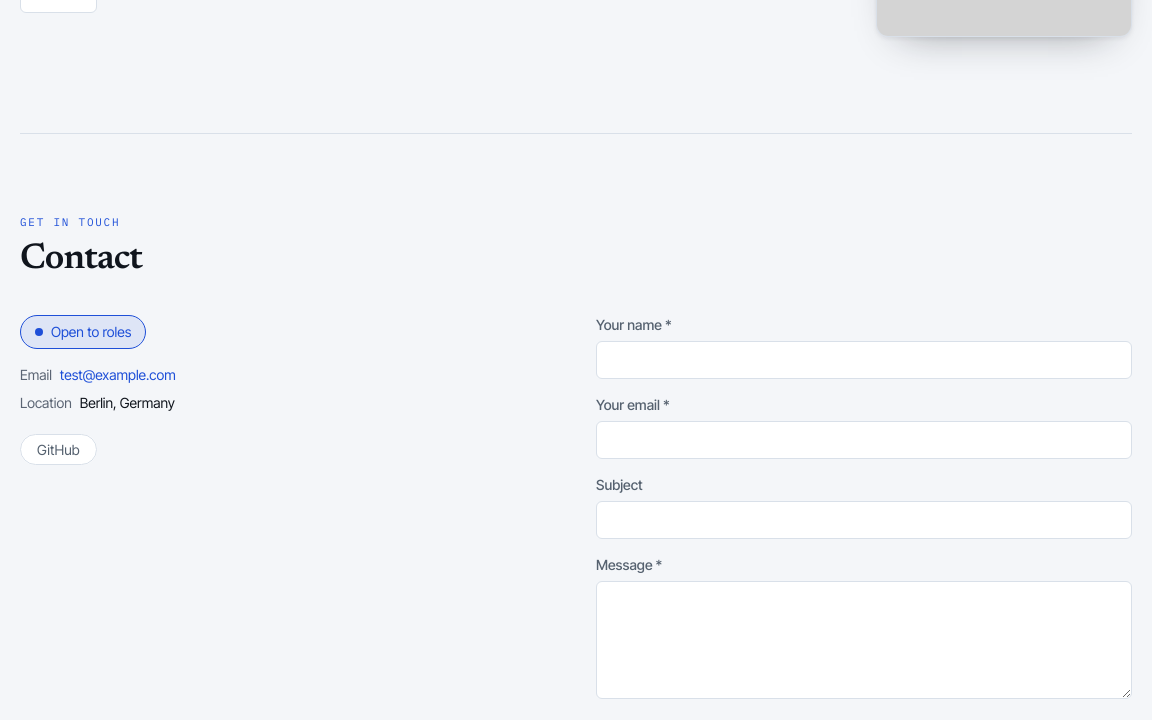
contact form › explains a rate-limit rather than showing a generic failure
(page scrolled)
In the field labelled "Your name *": (864, 360) [596,341,1132,379], type "Recruiter"
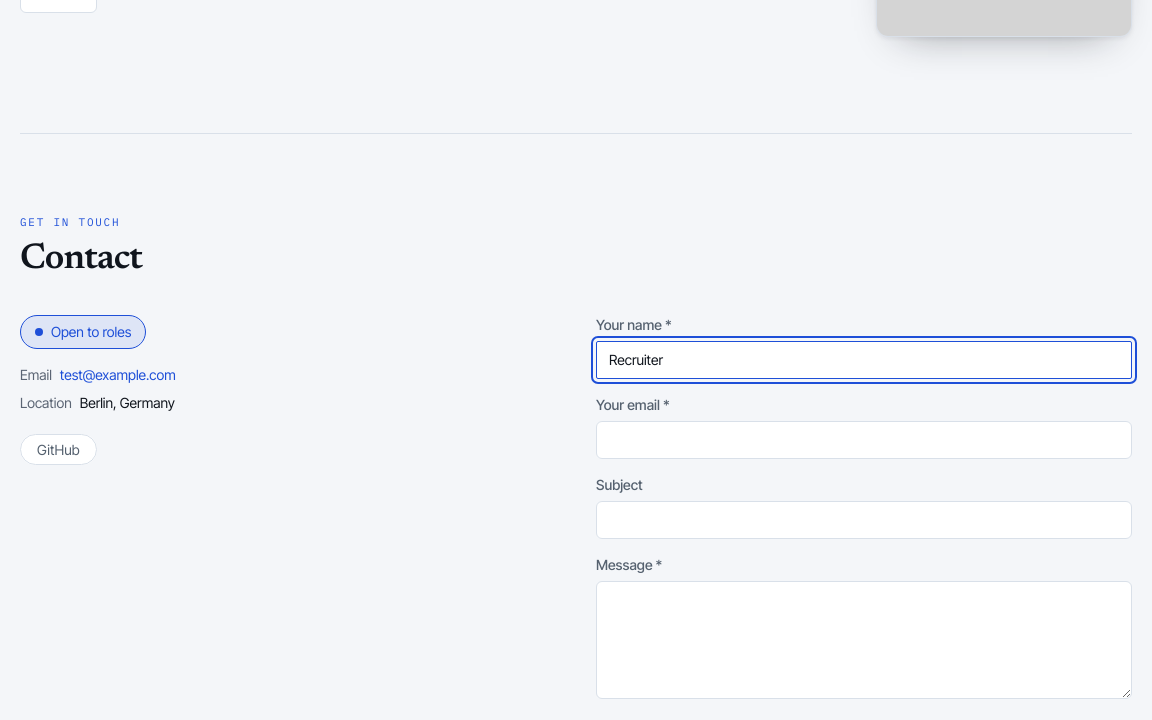
In the field labelled "Your email *": (864, 440) [596,421,1132,459], type "r@example.com"
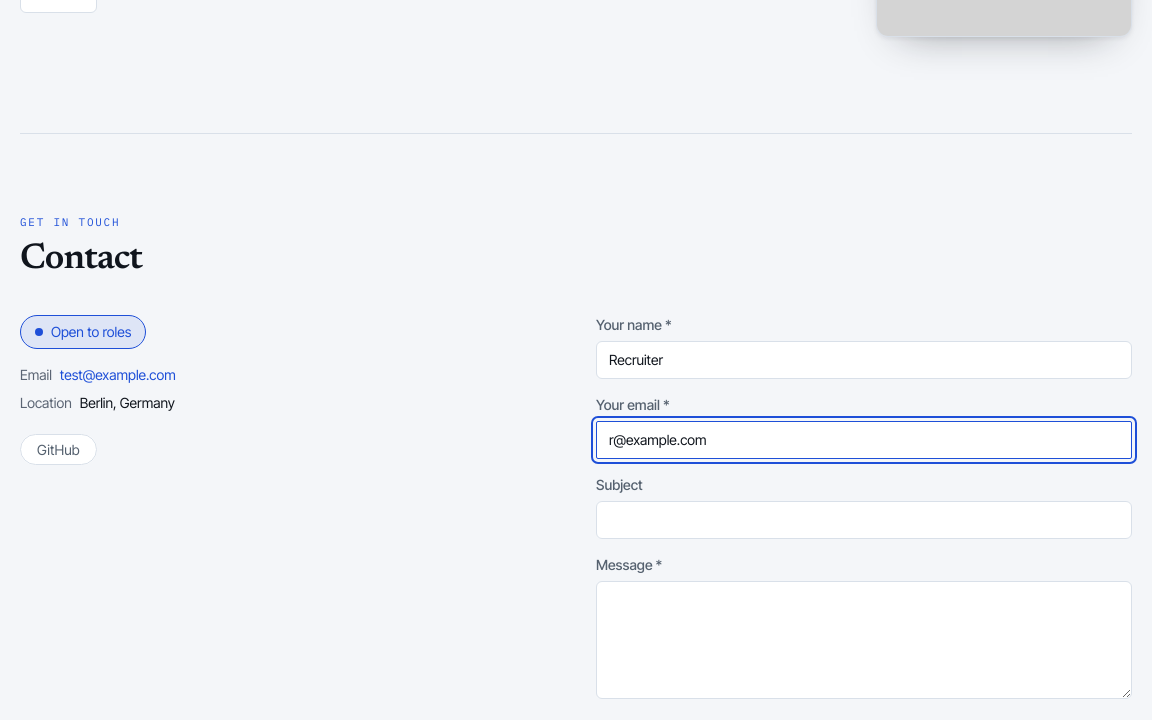
In the text box labelled "Message *": (864, 640) [596,581,1132,699], type "Another message entirely."
(page scrolled)
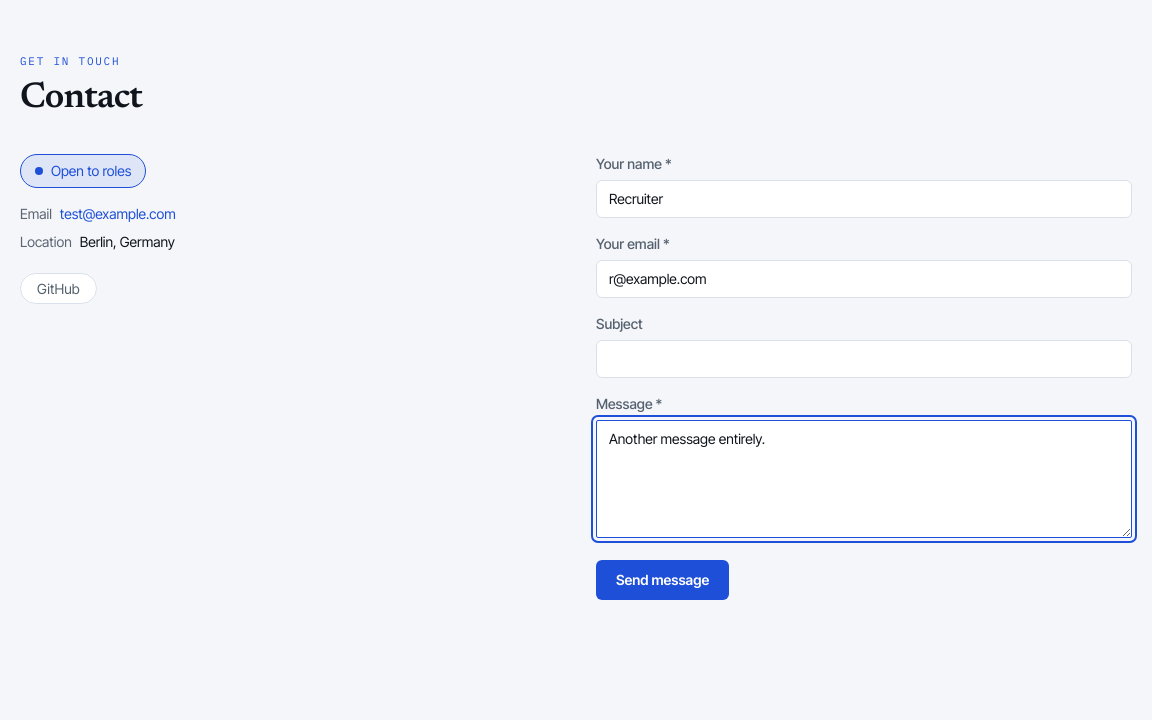
Click the button "Send message": (663, 580) [596,560,729,600]
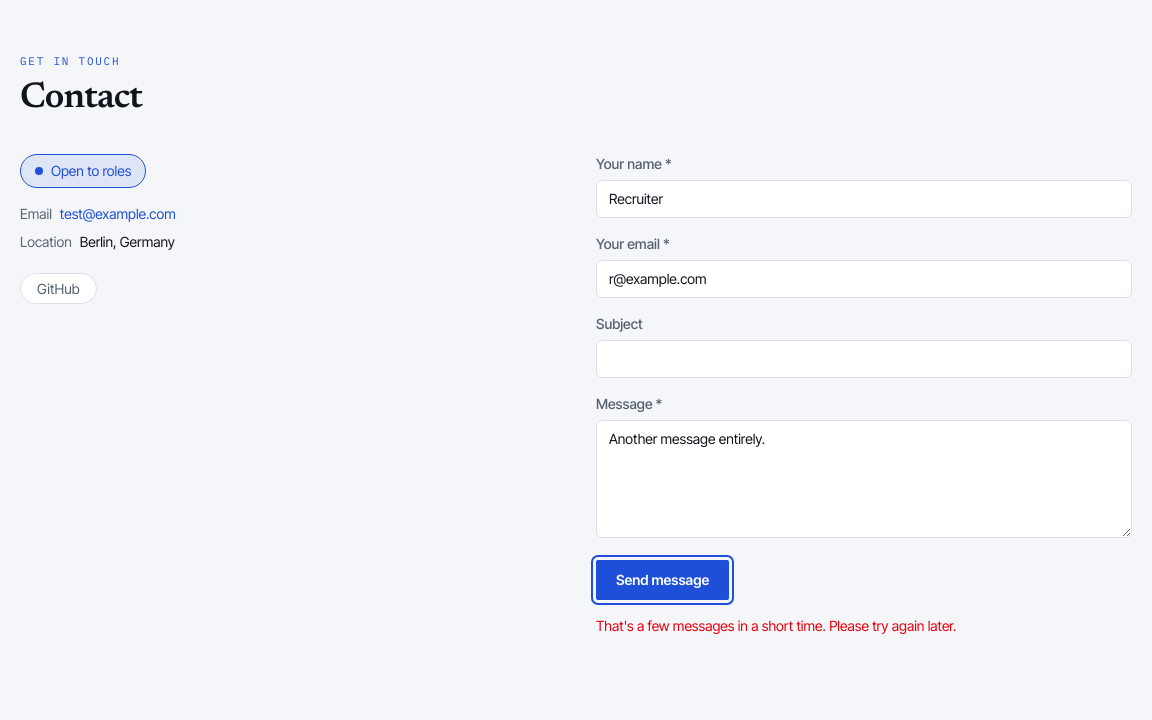
expect the text "messages in a short time" is shown: met, box [596,617,956,634]
